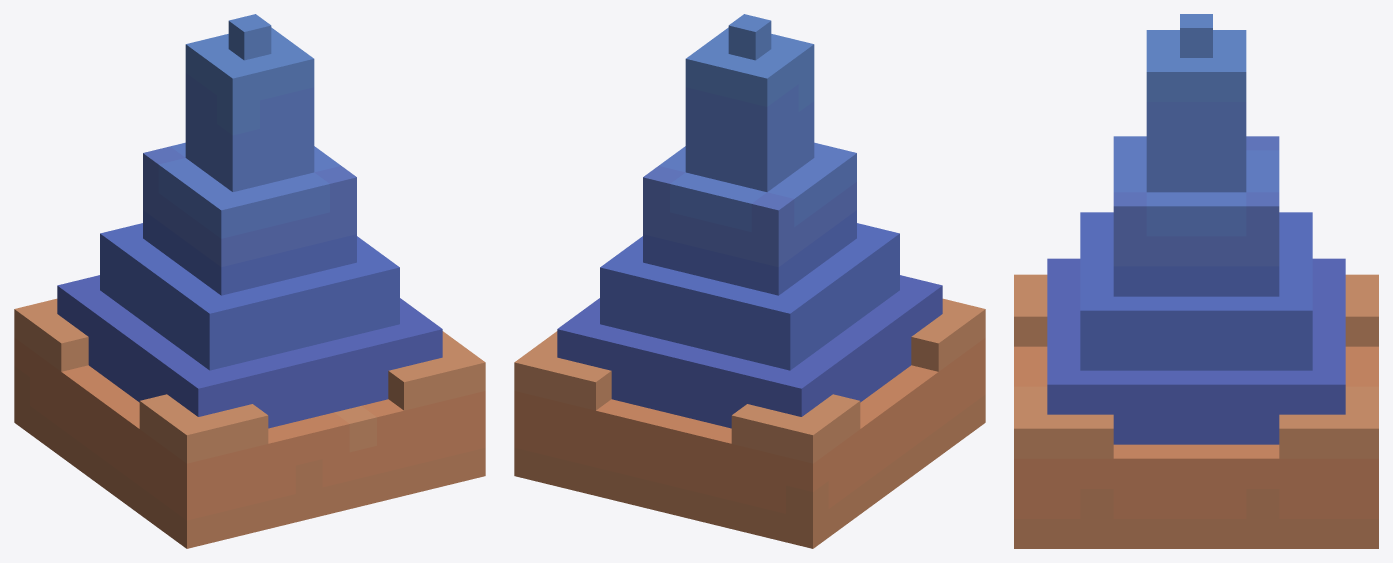
File: tower-square-top-roof-high.glb
3 views of the same model, side by side, from view 1: azimuth 30°, elevation 25°; view 2: azimuth 150°, elevation 25°; view 3: azimuth 270°, elevation 25° (orthographic). The views are drawn at different scales.
Visible parts, largest first — view 1: tower-square-top-roof-high; view 2: tower-square-top-roof-high; view 3: tower-square-top-roof-high.
Part boxes in pixels (bbox=[...]): tower-square-top-roof-high: bbox=[14, 14, 485, 548]; tower-square-top-roof-high: bbox=[514, 14, 985, 548]; tower-square-top-roof-high: bbox=[1014, 14, 1378, 548].
Bounding box in the file's own units: 1.06 × 1.45 × 1.06.
Materials: 1 (1 with a texture image).
